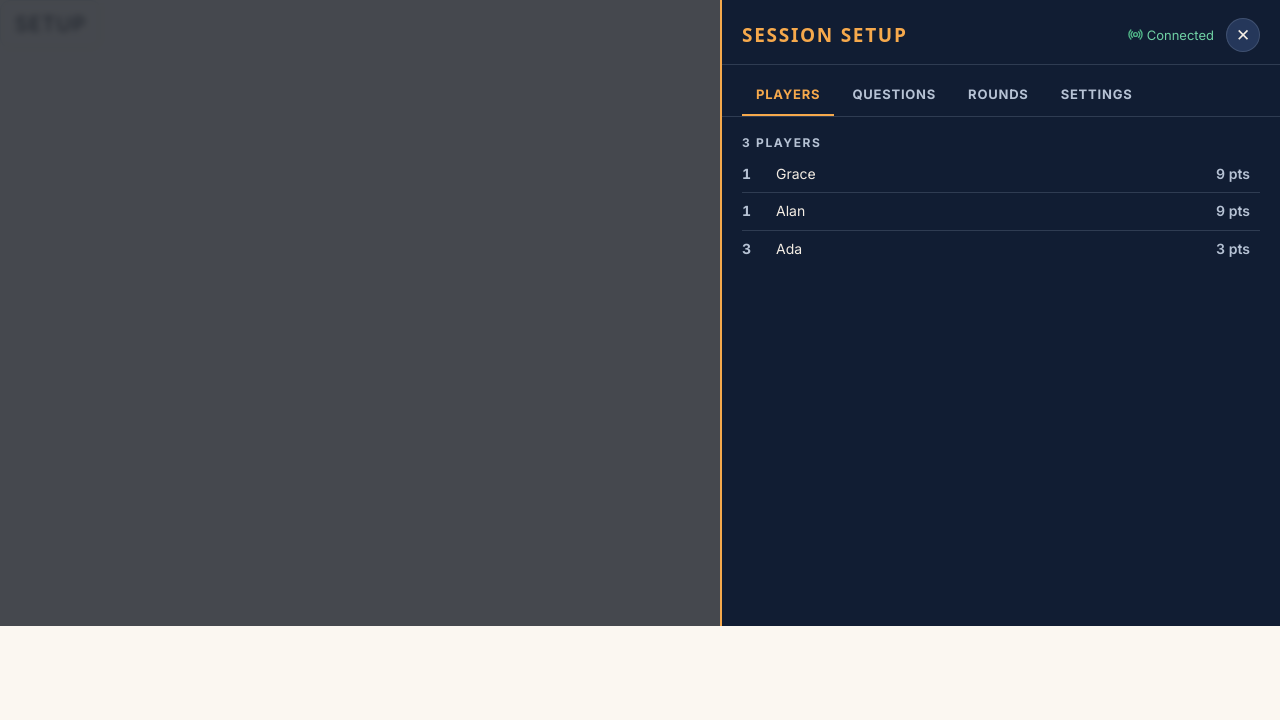
Test: the Questions tab — categories › every toggle is disabled while one is in flight
This screenshot has width=1280, height=720.
Click the tab "Questions" at (894, 95), box [838, 75, 950, 116]
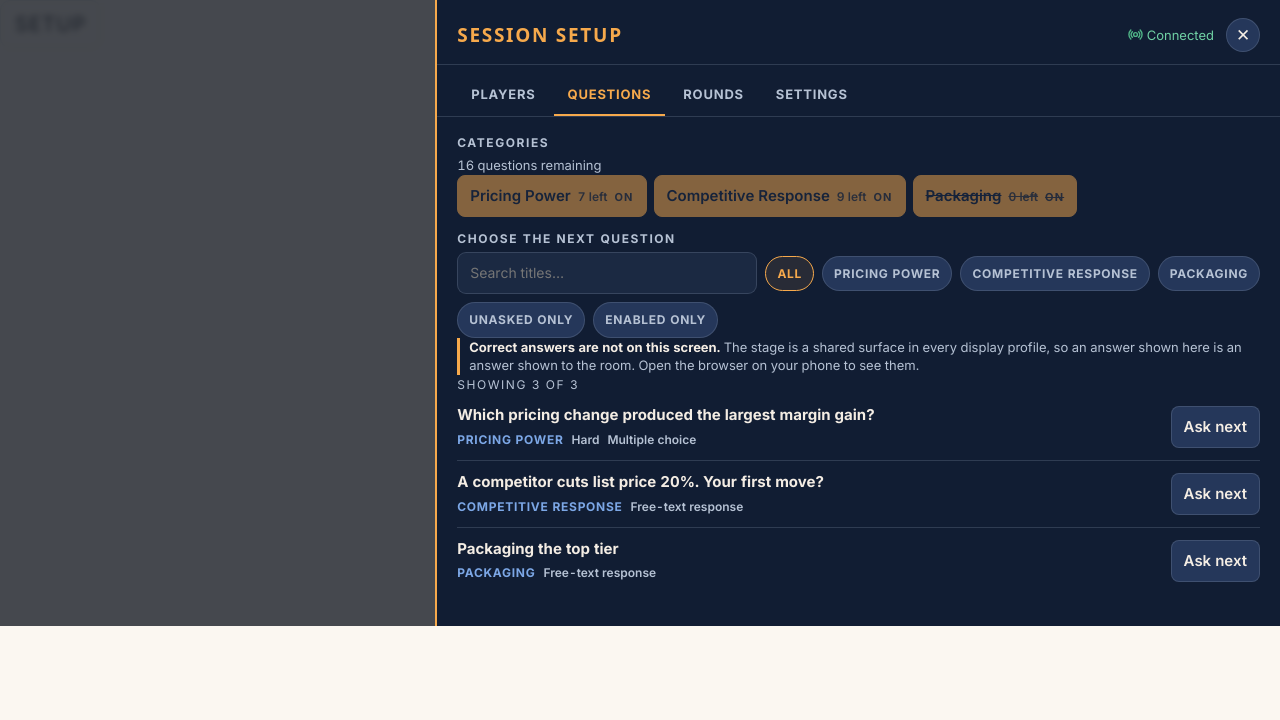
Check: the button with test id "category-toggle" showing "Pricing Power 7 left on" is disabled, box [457, 175, 646, 217]
Check: the button with test id "category-toggle" showing "Competitive Response 9 left on" is disabled, box [654, 175, 906, 217]
Check: the button with test id "category-toggle" showing "Packaging 0 left on" is disabled, box [912, 175, 1077, 217]
